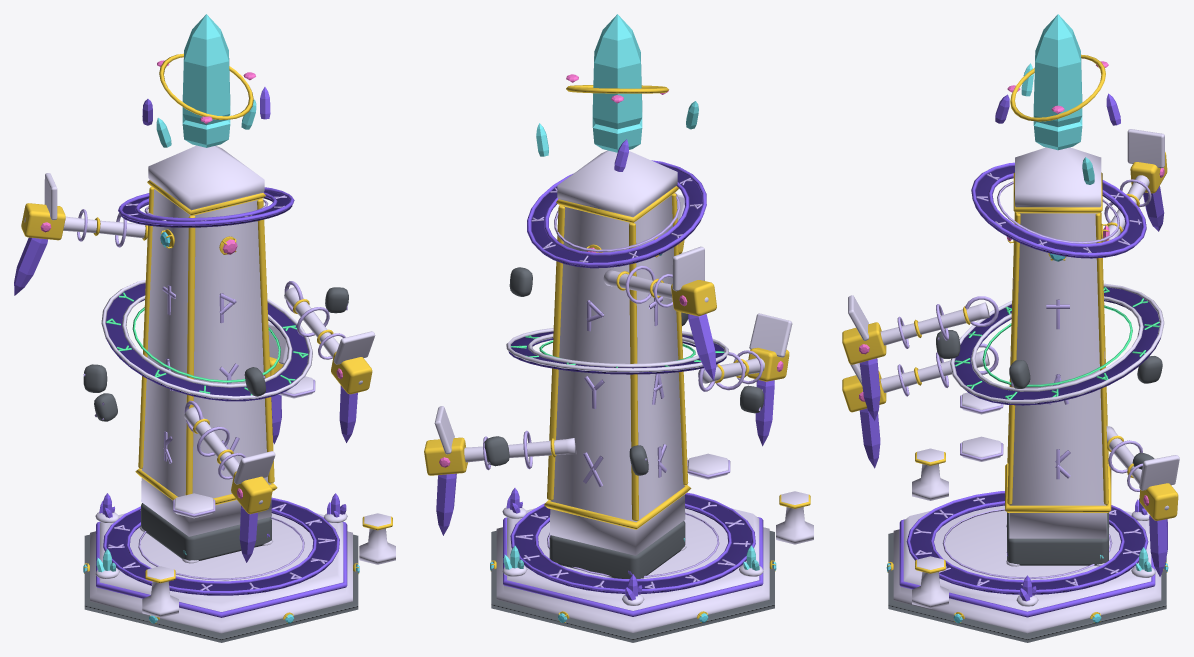
Rendered from IcePickPost_T4.fbx.
3 views of the same model, side by side, from view 1: azimuth 30°, elevation 25°; view 2: azimuth 150°, elevation 25°; view 3: azimuth 270°, elevation 25° (orthographic). The views are drawn at different scales.
Parts seen in each view (by area): view 1: IcePickPostT4Pillar, IcePickPostT4Dais, IcePickPostT4Orbit, IcePickPostT4CrownGlow, IcePickPostT4Pedestals, IcePickPostT4OrbitPicks, IcePickPostT4PickB, IcePickPostT4PickA, IcePickPostT4RuneStones, IcePickPostT4OrbitPicksGlow, IcePickPostT4PickBGlow, IcePickPostT4PickAGlow (+6 smaller); view 2: IcePickPostT4Pillar, IcePickPostT4Dais, IcePickPostT4Orbit, IcePickPostT4CrownGlow, IcePickPostT4OrbitPicks, IcePickPostT4OrbitPicksGlow, IcePickPostT4PickA, IcePickPostT4RuneStones, IcePickPostT4Pedestals, IcePickPostT4PickAGlow, IcePickPostT4RunesGlow, IcePickPostT4DaisGlow (+4 smaller); view 3: IcePickPostT4Pillar, IcePickPostT4Dais, IcePickPostT4Orbit, IcePickPostT4CrownGlow, IcePickPostT4OrbitPicks, IcePickPostT4Pedestals, IcePickPostT4PickB, IcePickPostT4OrbitPicksGlow, IcePickPostT4OrbitGlow, IcePickPostT4PickA, IcePickPostT4RuneStones, IcePickPostT4PickBGlow (+6 smaller).
Boxes of the visible parts, x1,y1,x2,y2 form: IcePickPostT4Pillar: (135,145,277,563); IcePickPostT4Dais: (84,497,358,642); IcePickPostT4Orbit: (101,187,312,401); IcePickPostT4CrownGlow: (142,14,270,147); IcePickPostT4Pedestals: (142,376,395,617); IcePickPostT4OrbitPicks: (21,173,287,375); IcePickPostT4PickB: (284,287,375,394); IcePickPostT4PickA: (184,407,275,514); IcePickPostT4RuneStones: (83,287,348,421); IcePickPostT4OrbitPicksGlow: (14,209,281,444); IcePickPostT4PickBGlow: (284,281,357,442); IcePickPostT4PickAGlow: (184,400,257,562); IcePickPostT4Pillar: (544,150,691,578); IcePickPostT4Dais: (490,492,775,642); IcePickPostT4Orbit: (506,160,728,374); IcePickPostT4CrownGlow: (536,14,698,171); IcePickPostT4OrbitPicks: (424,246,716,475); IcePickPostT4OrbitPicksGlow: (436,265,716,535); IcePickPostT4PickA: (698,313,792,383); IcePickPostT4RuneStones: (484,267,763,475); IcePickPostT4Pedestals: (688,453,813,544); IcePickPostT4PickAGlow: (698,350,783,446); IcePickPostT4RunesGlow: (583,296,666,486); IcePickPostT4DaisGlow: (490,502,776,622); IcePickPostT4Pillar: (1005,147,1111,566); IcePickPostT4Dais: (887,491,1167,642); IcePickPostT4Orbit: (950,162,1164,405); IcePickPostT4CrownGlow: (995,14,1120,184); IcePickPostT4OrbitPicks: (1103,129,1179,520); IcePickPostT4Pedestals: (912,392,1001,608); IcePickPostT4PickB: (842,295,989,364); IcePickPostT4OrbitPicksGlow: (1104,168,1167,576); IcePickPostT4OrbitGlow: (955,173,1159,399); IcePickPostT4PickA: (842,350,989,412); IcePickPostT4RuneStones: (936,330,1162,469); IcePickPostT4PickBGlow: (859,296,998,420).
Bounding box in the file's own units: 200 × 375 × 205.
